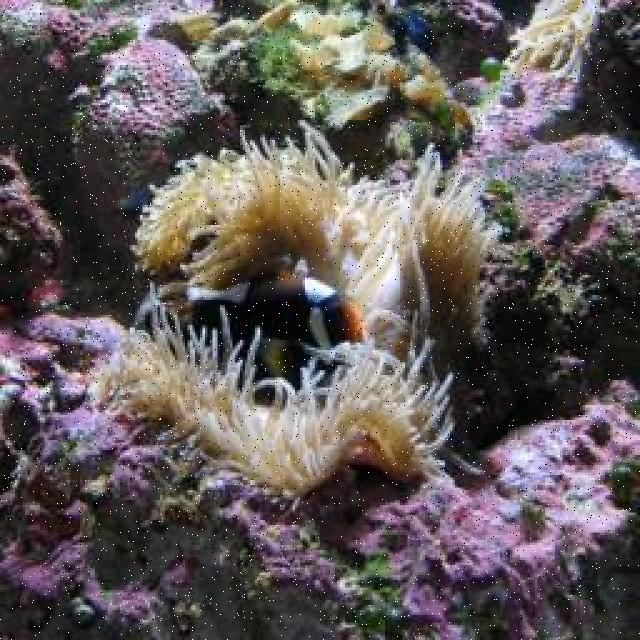fish: (186, 257, 367, 391)
reefs: (86, 118, 506, 500)
